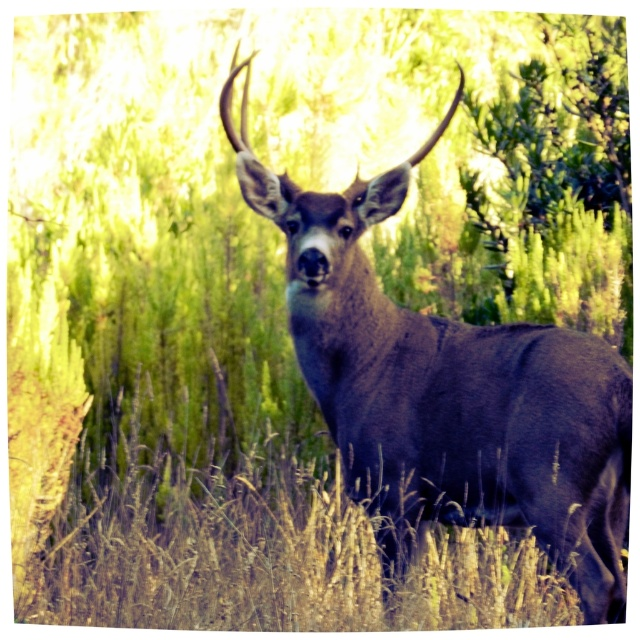Deer: (218, 40, 640, 626)
